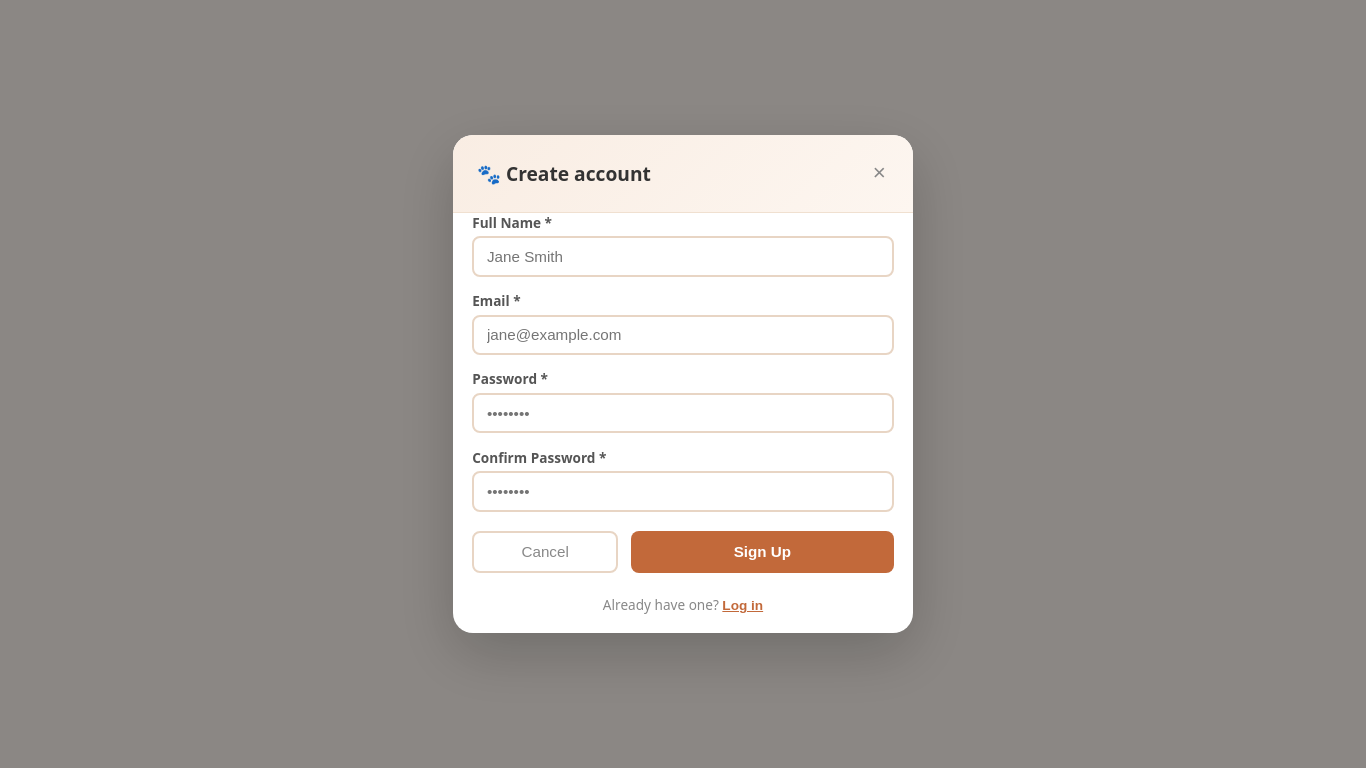
AuthModal – signup mode › shows error when signup fails
The width and height of the screenshot is (1366, 768).
Type "Alice" into the field with placeholder "Jane Smith". click: (683, 256)
box: [472, 236, 894, 277]
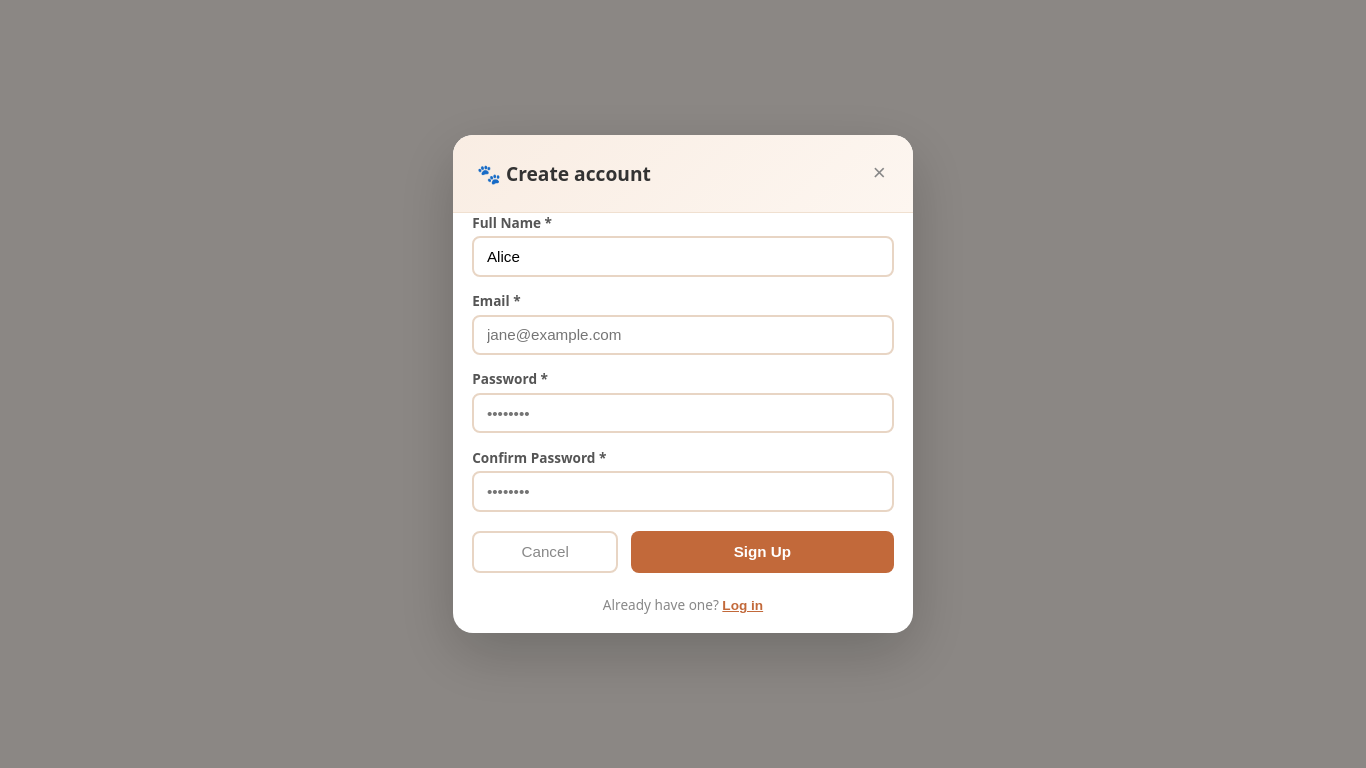
Type "alice@example.com" into the field with placeholder "jane@example.com". click: (683, 335)
box: [472, 315, 894, 355]
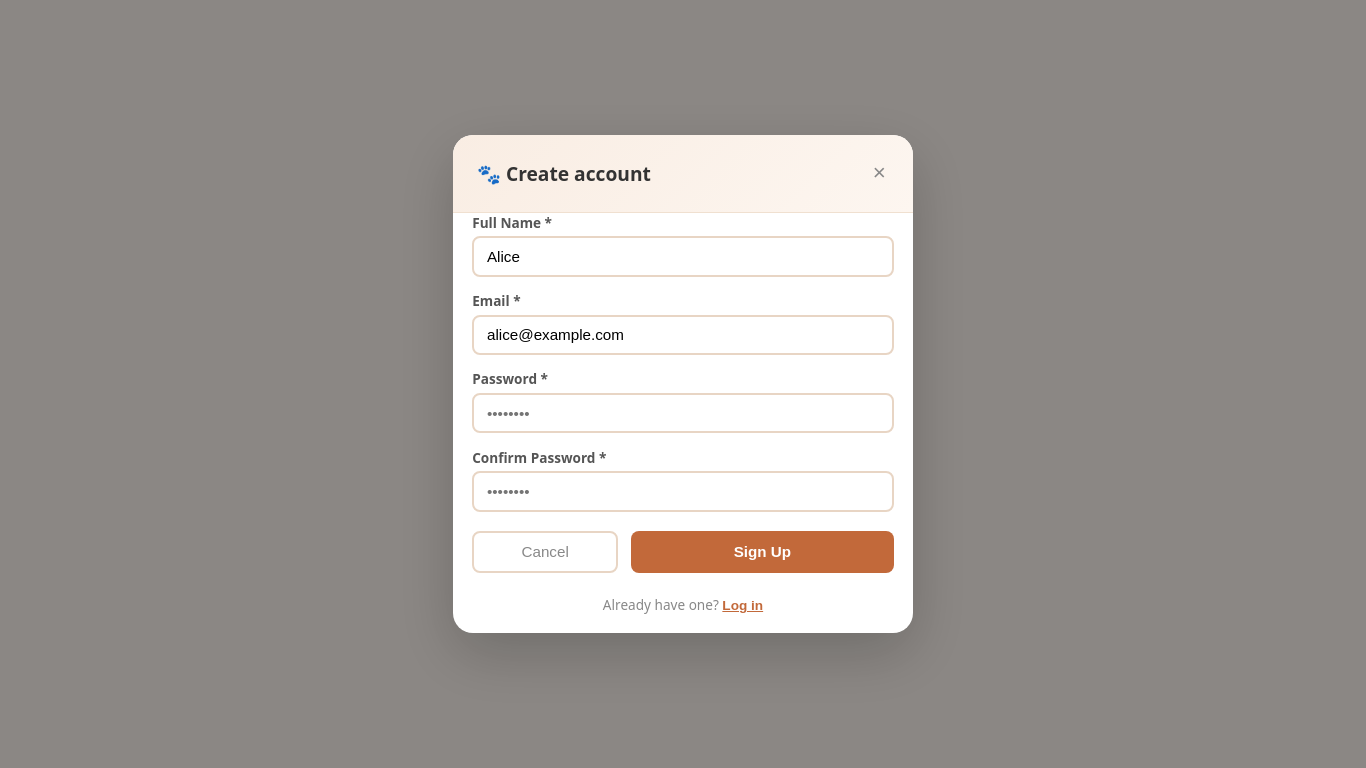
Type "secret123" into the 1st password field with placeholder "••••••••". click: (683, 413)
box: [472, 393, 894, 433]
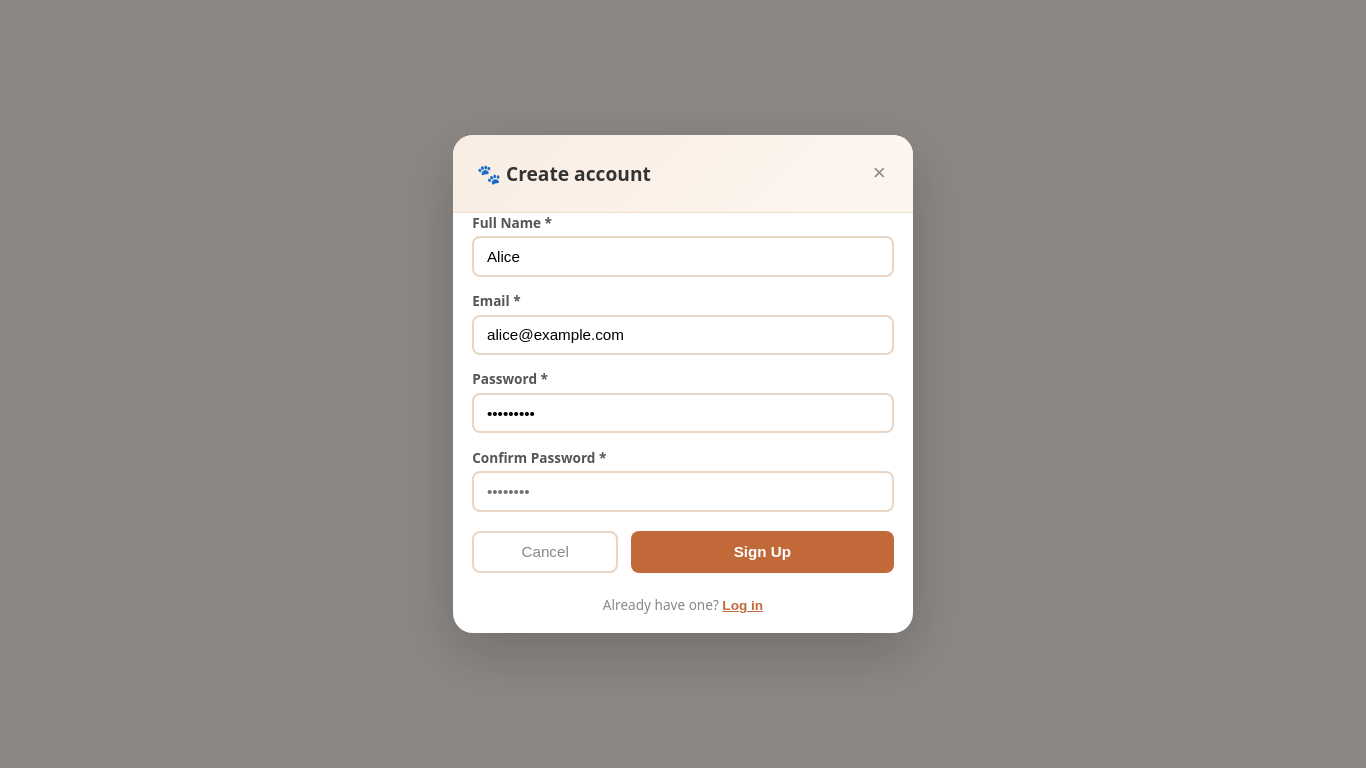
Type "secret123" into the password field with placeholder "••••••••". click: (683, 492)
box: [472, 472, 894, 512]
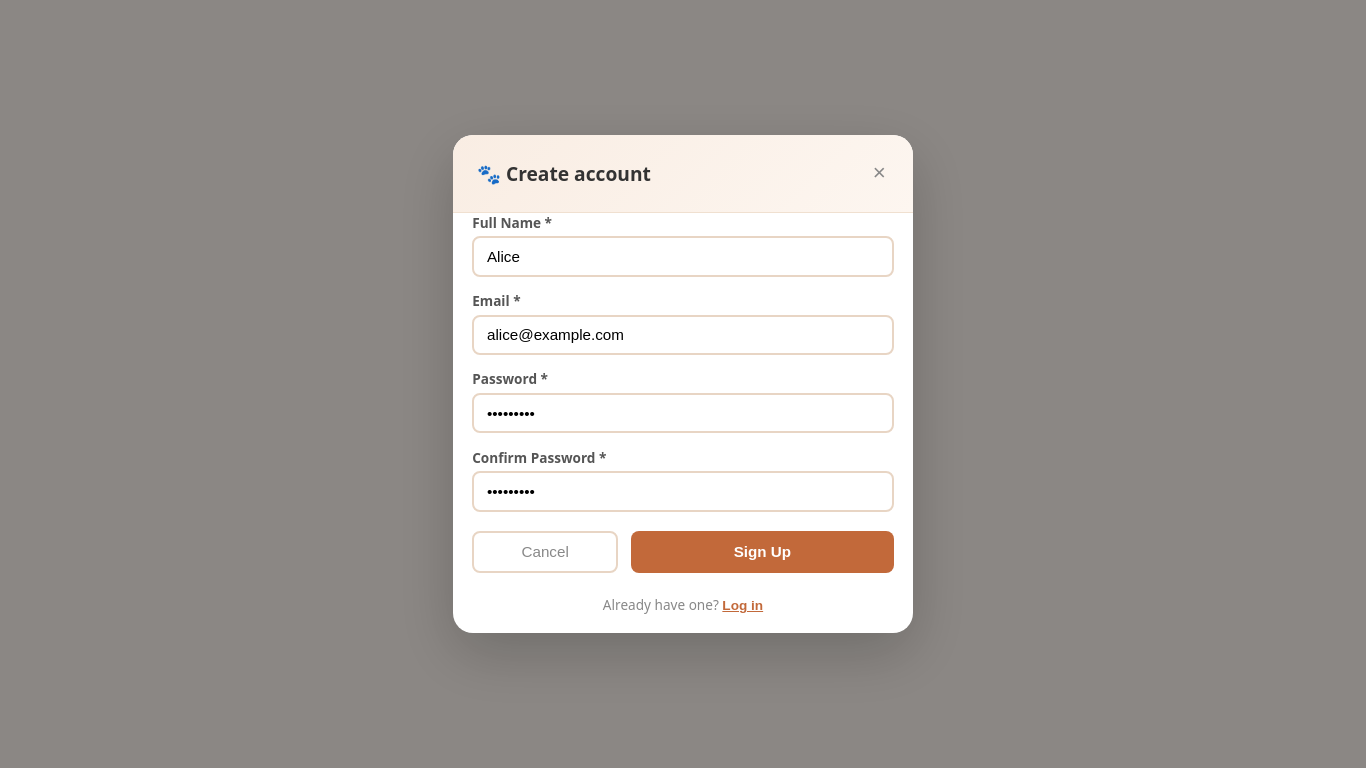
Click the button "Sign Up". click: (762, 552)
box: [631, 531, 894, 573]
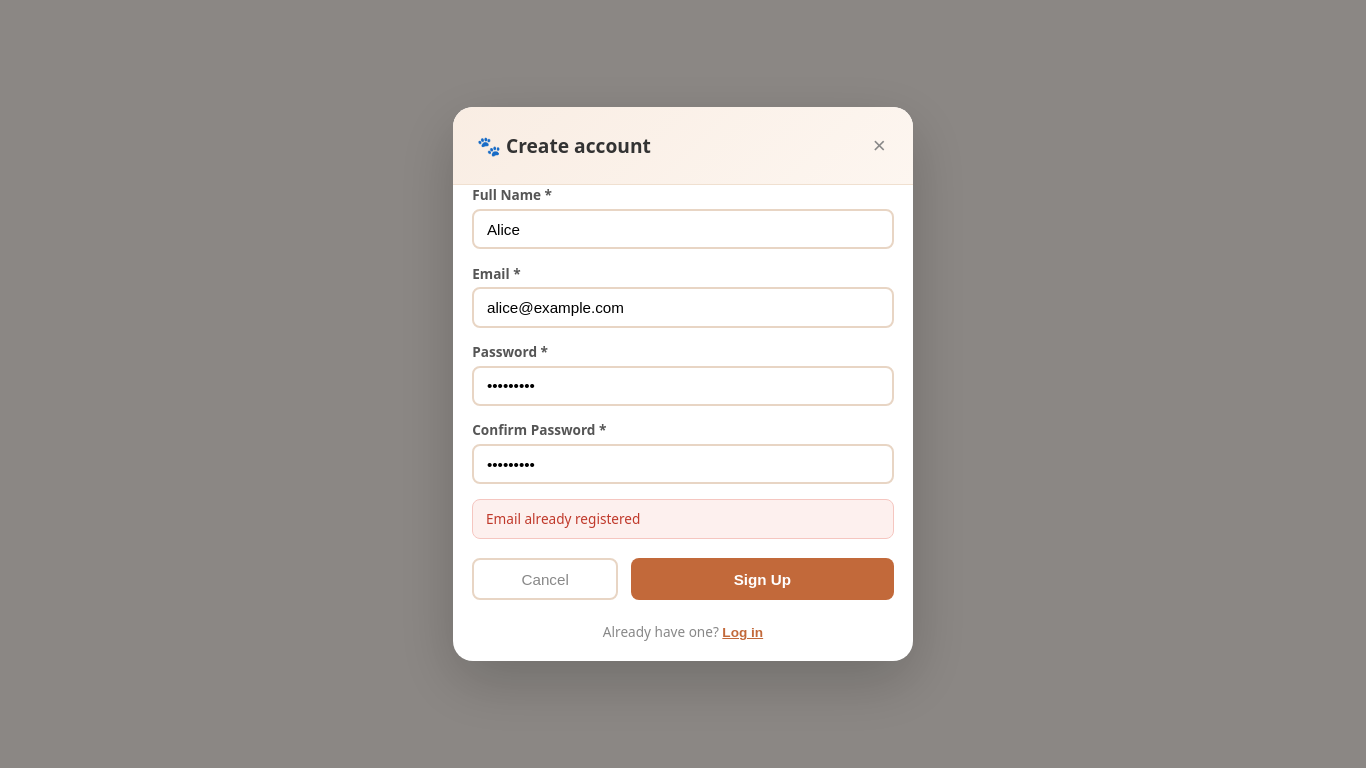
Expected: the text "Email already registered" is shown, [472, 499, 894, 539]
